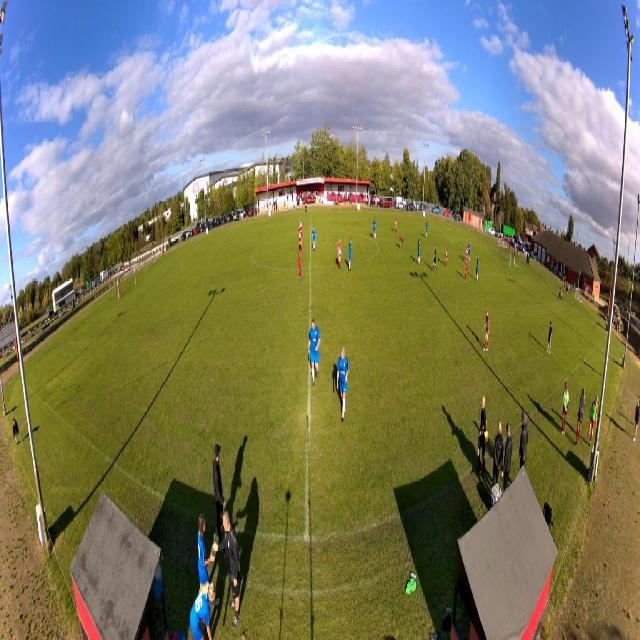player: (336, 346, 350, 425), (308, 316, 321, 388), (483, 308, 490, 352), (546, 321, 554, 356), (298, 247, 304, 282), (432, 243, 438, 274), (298, 224, 304, 254), (337, 238, 342, 270), (348, 237, 352, 273), (475, 254, 480, 282), (312, 226, 317, 253), (372, 217, 377, 241), (417, 238, 421, 267), (464, 257, 468, 282), (299, 215, 303, 237), (468, 242, 472, 263), (399, 234, 404, 250), (466, 242, 470, 262), (508, 251, 512, 271), (445, 242, 448, 267), (395, 214, 398, 233), (425, 220, 428, 239), (118, 286, 121, 300)
